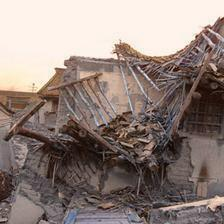Destroyed_Building: (0, 14, 224, 224)
